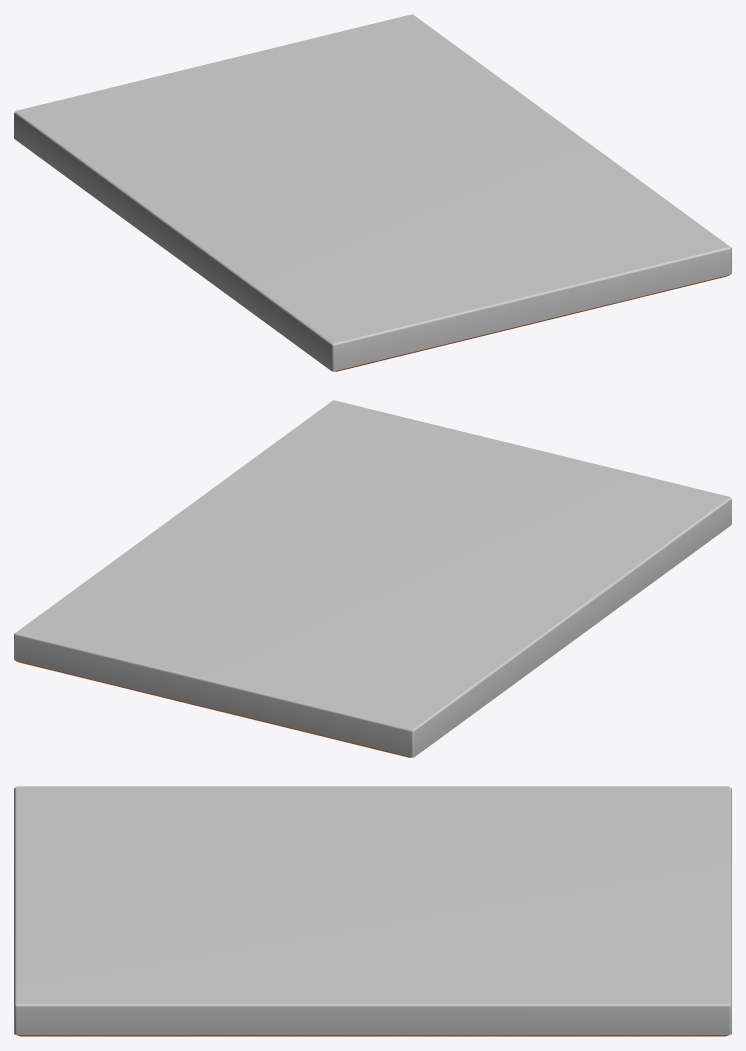
Rendered from SM_artpractice_sketch_04.fbx.
The picture shows the model from 3 angles, top to bottom: view 1: azimuth 30°, elevation 25°; view 2: azimuth 150°, elevation 25°; view 3: azimuth 270°, elevation 25°; orthographic projection. The views are drawn at different scales.
Visible parts, largest first — view 1: artpractice09; view 2: artpractice09; view 3: artpractice09.
Part boxes in pixels (x1=…): artpractice09: x1=14, y1=14, x2=731, y2=371; artpractice09: x1=14, y1=400, x2=731, y2=757; artpractice09: x1=14, y1=786, x2=731, y2=1036.
Size of the model in its own units: 20.32 by 1.43 by 28.09.
